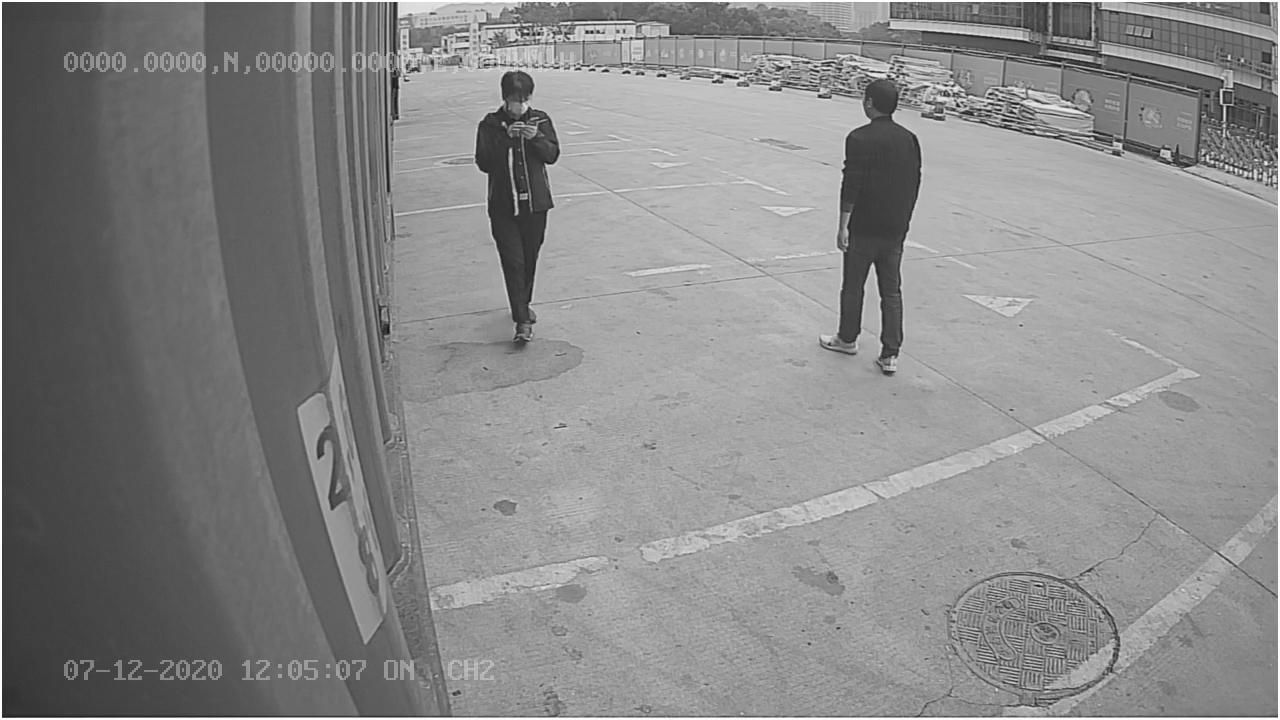person: (813, 70, 919, 373), (465, 68, 571, 345)
